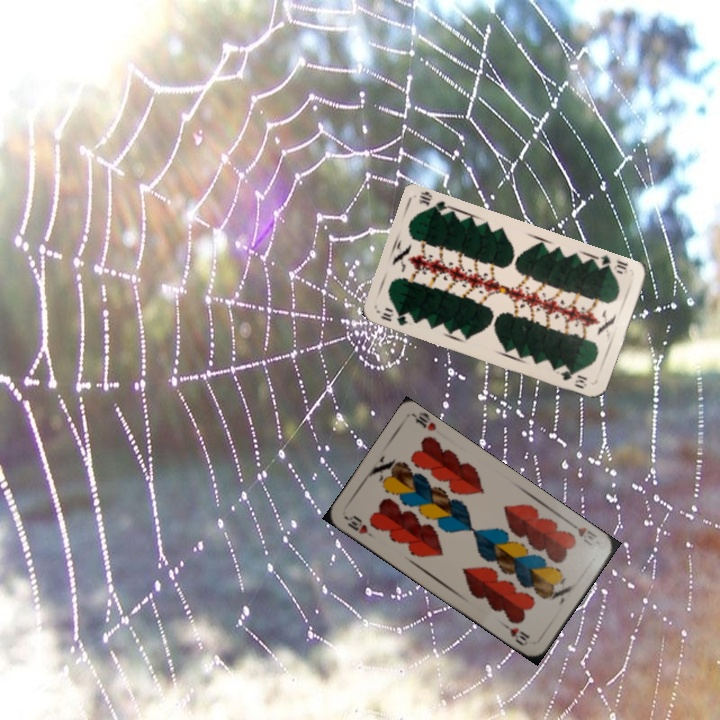G10: (592, 251, 631, 277), (376, 303, 410, 328)
H10: (341, 511, 377, 541), (566, 518, 600, 549)
